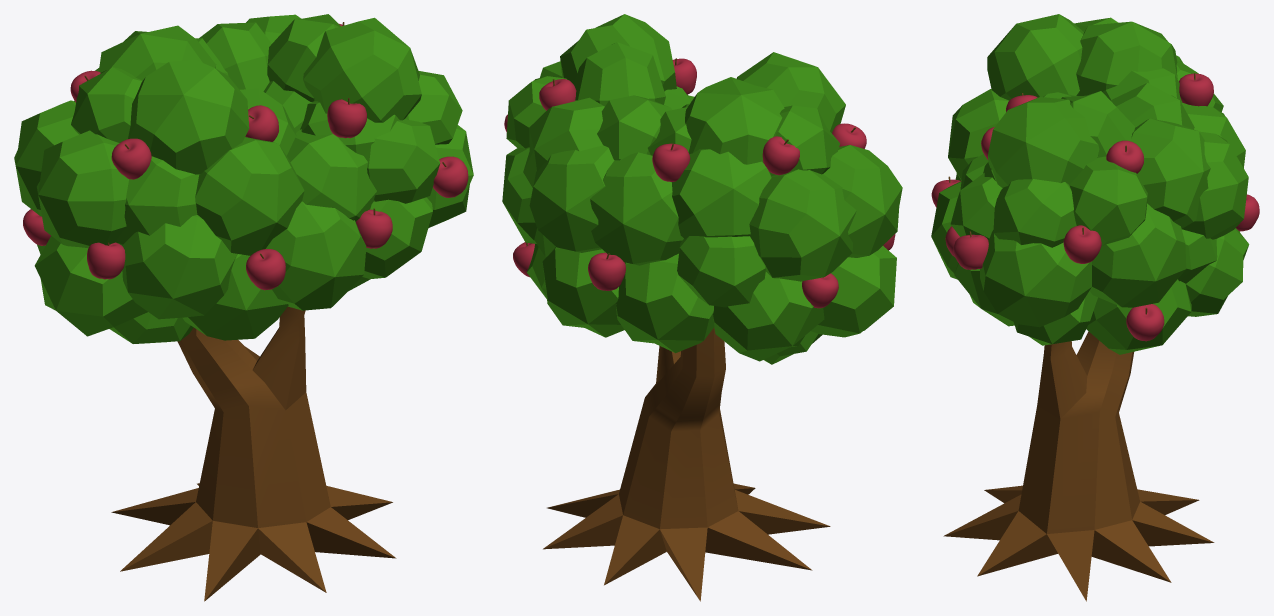
The model's file is Tree.fbx.
3 views of the same model, side by side, from view 1: azimuth 30°, elevation 25°; view 2: azimuth 150°, elevation 25°; view 3: azimuth 270°, elevation 25° (orthographic). The views are drawn at different scales.
Parts seen in each view (by area): view 1: polySurface11; view 2: polySurface11; view 3: polySurface11.
Part boxes in pixels (x1,y1,x2,y2): polySurface11: (14, 14, 473, 601); polySurface11: (502, 14, 902, 601); polySurface11: (931, 14, 1259, 601).
Bounding box in the file's own units: 7.14 × 8.66 × 5.39.
